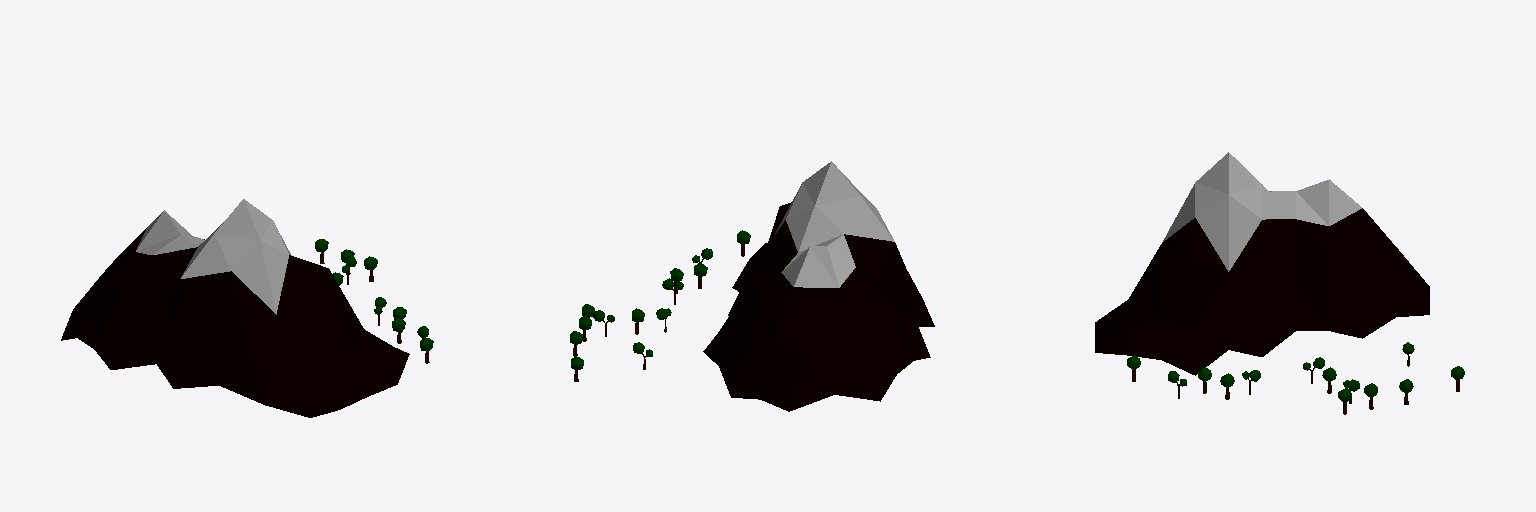
The model's file is mountain.obj.
The picture shows the model from 3 angles: view 1: azimuth 30°, elevation 25°; view 2: azimuth 150°, elevation 25°; view 3: azimuth 270°, elevation 25°; orthographic projection.
Visible parts, largest first — view 1: 平面; view 2: 平面; view 3: 平面.
Part boxes in pixels (x1,y1,x2,y2): 平面: (61,199,409,417); 平面: (703,161,934,411); 平面: (1095,152,1429,375).
Bounding box in the file's own units: 9.99 × 5.3 × 10.4.